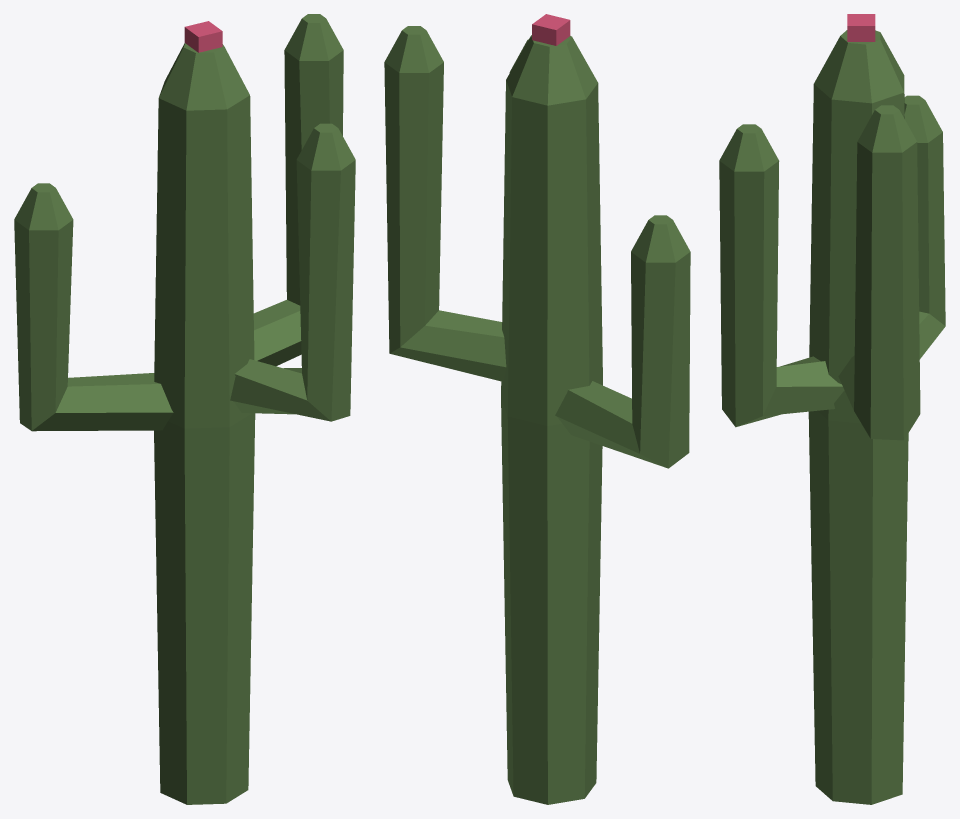
Rendered from SM_Saguaro_A.fbx.
The picture shows the model from 3 angles, left to right: view 1: azimuth 30°, elevation 25°; view 2: azimuth 150°, elevation 25°; view 3: azimuth 270°, elevation 25°; orthographic projection.
Visible parts, largest first — view 1: Saguaro_A; view 2: Saguaro_A; view 3: Saguaro_A.
Boxes of the visible parts, bbox=[...] form: Saguaro_A: bbox=[14, 14, 355, 804]; Saguaro_A: bbox=[384, 14, 690, 804]; Saguaro_A: bbox=[719, 14, 945, 804].
Bounding box in the file's own units: 200 × 129 × 480.
